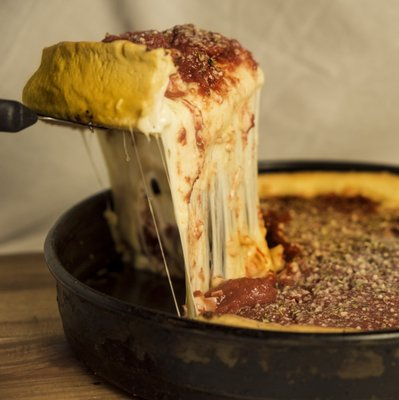sushi: (7, 21, 281, 345)
